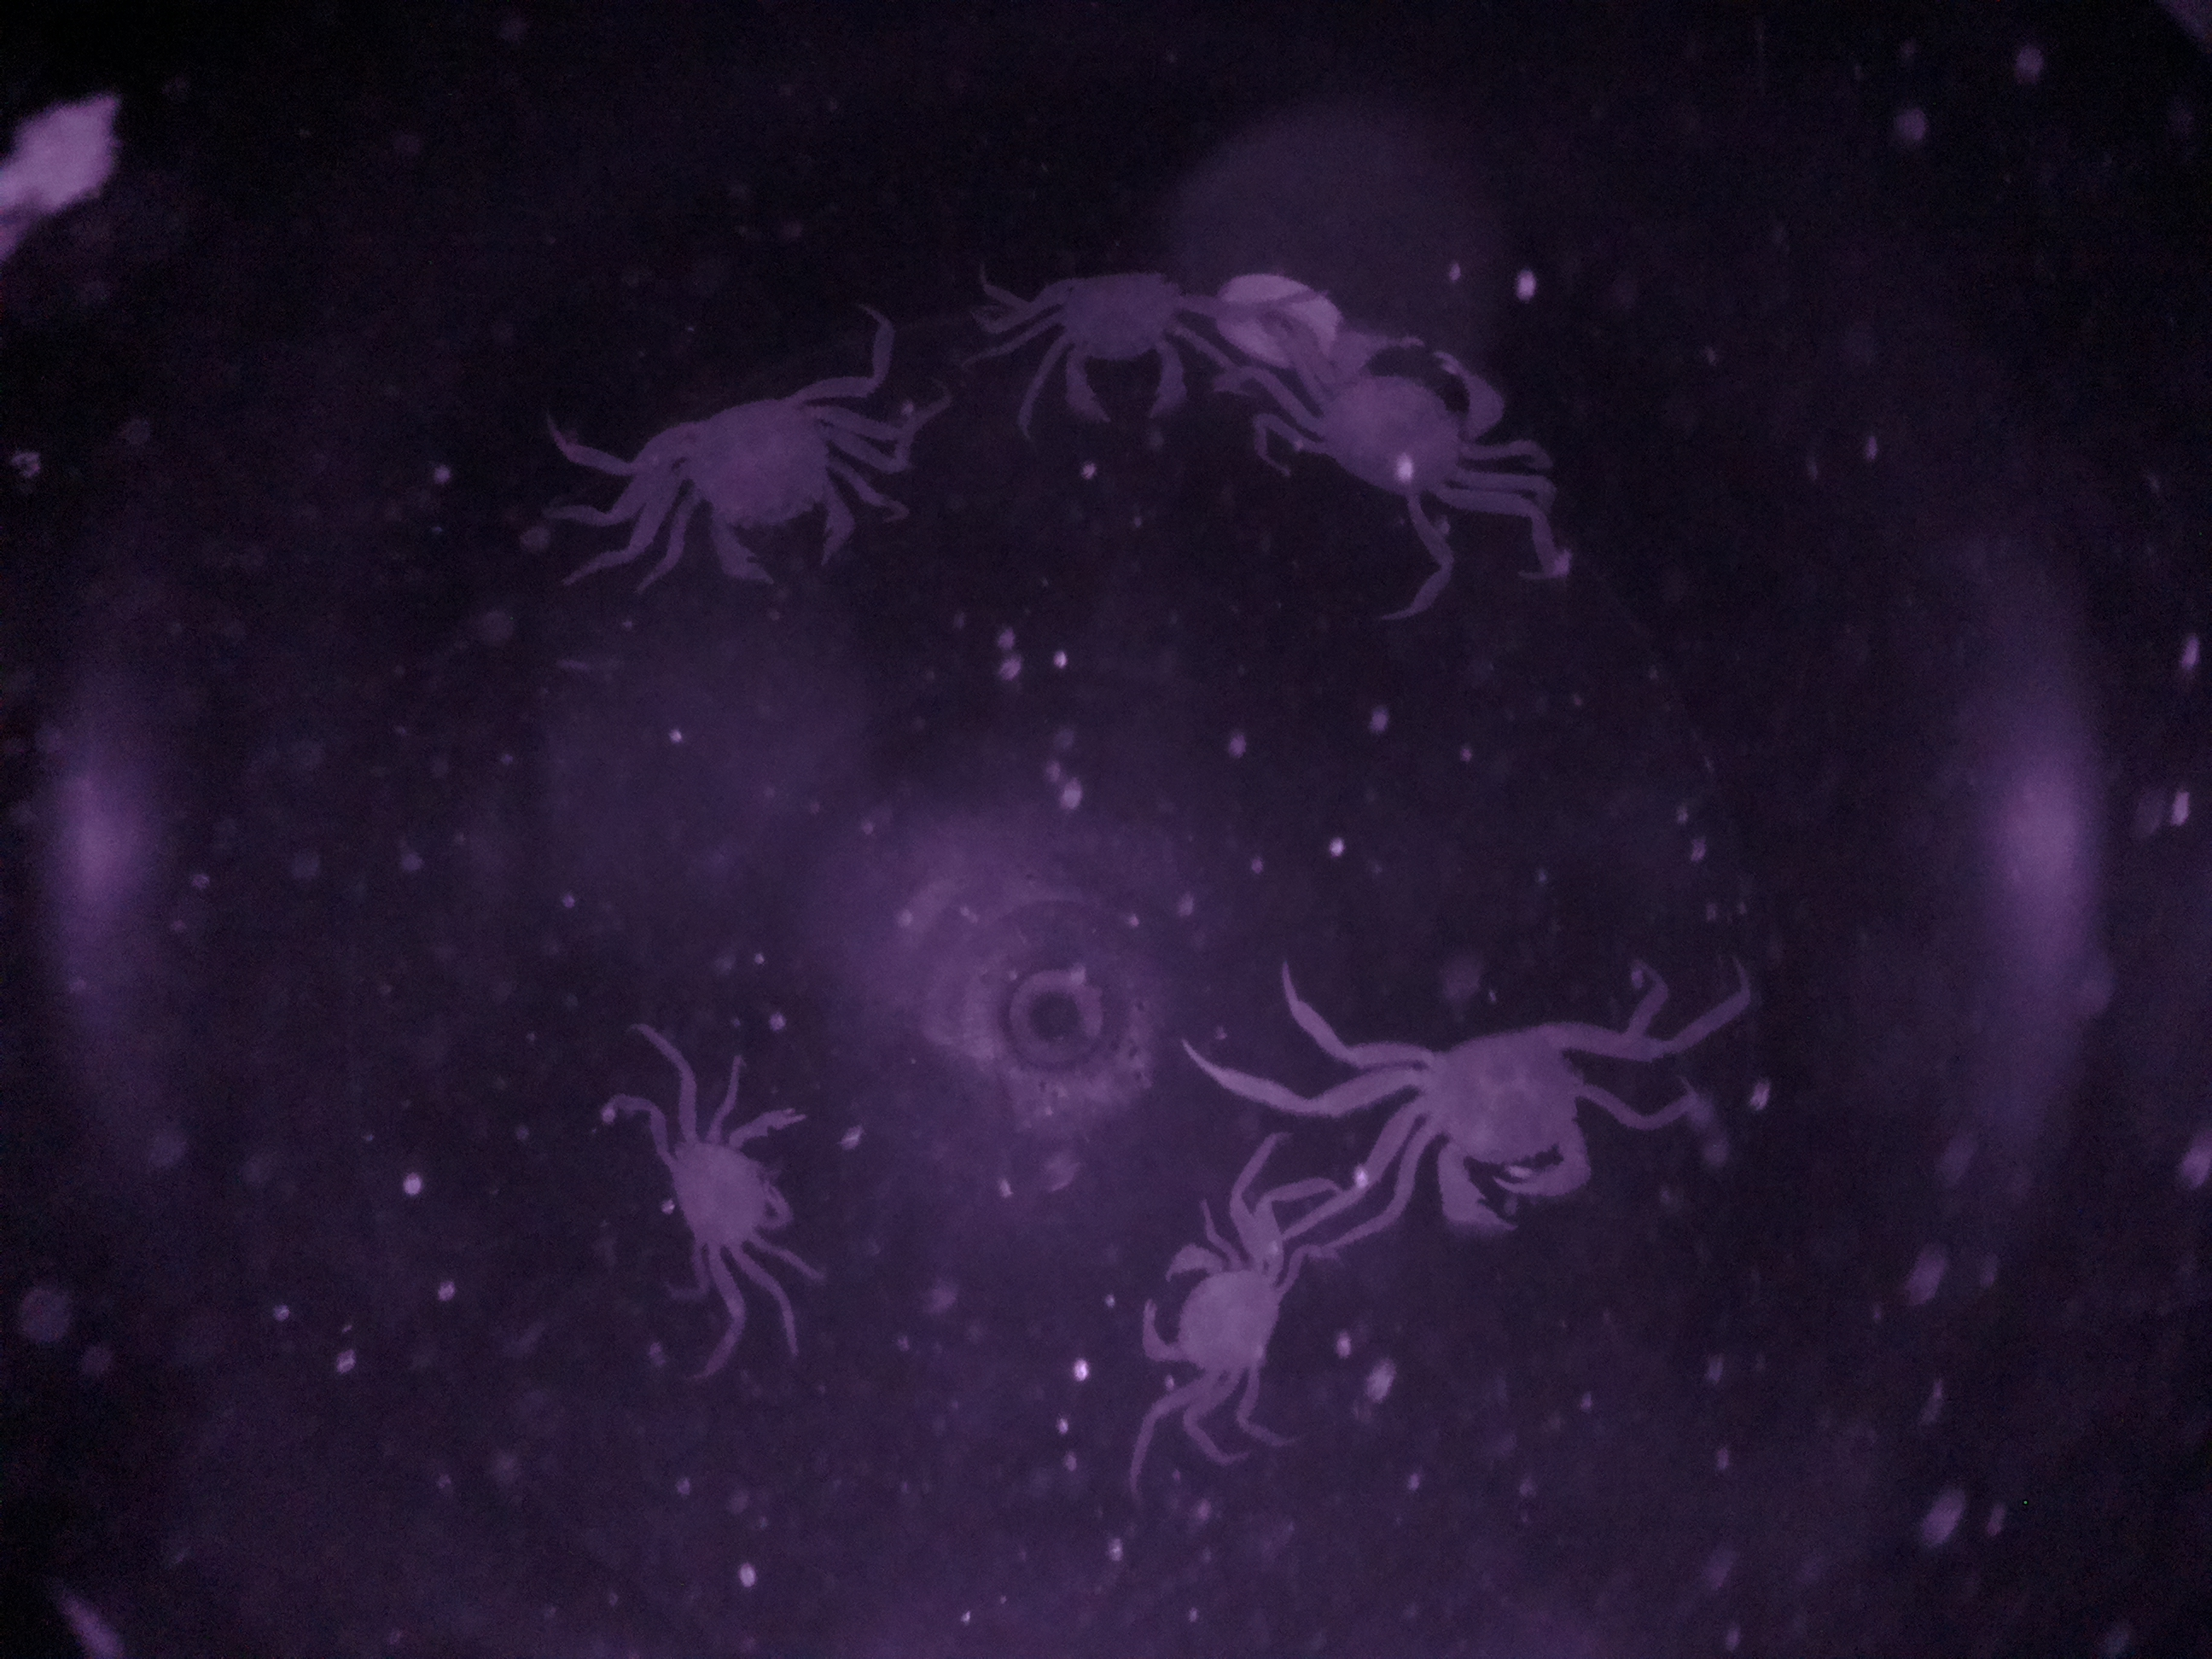Crab: (1359, 986, 1625, 1251), (632, 349, 906, 596), (1273, 308, 1541, 518), (1122, 1218, 1327, 1450), (629, 1079, 833, 1305), (1021, 247, 1212, 441)
